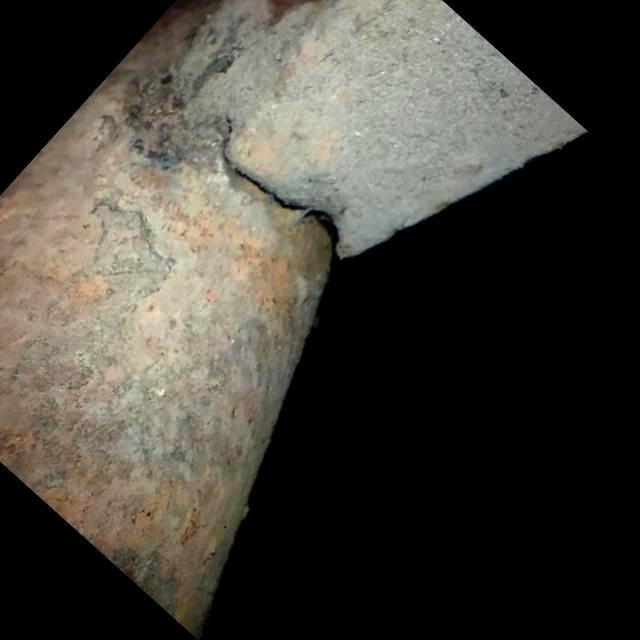defect: (221, 115, 345, 266)
